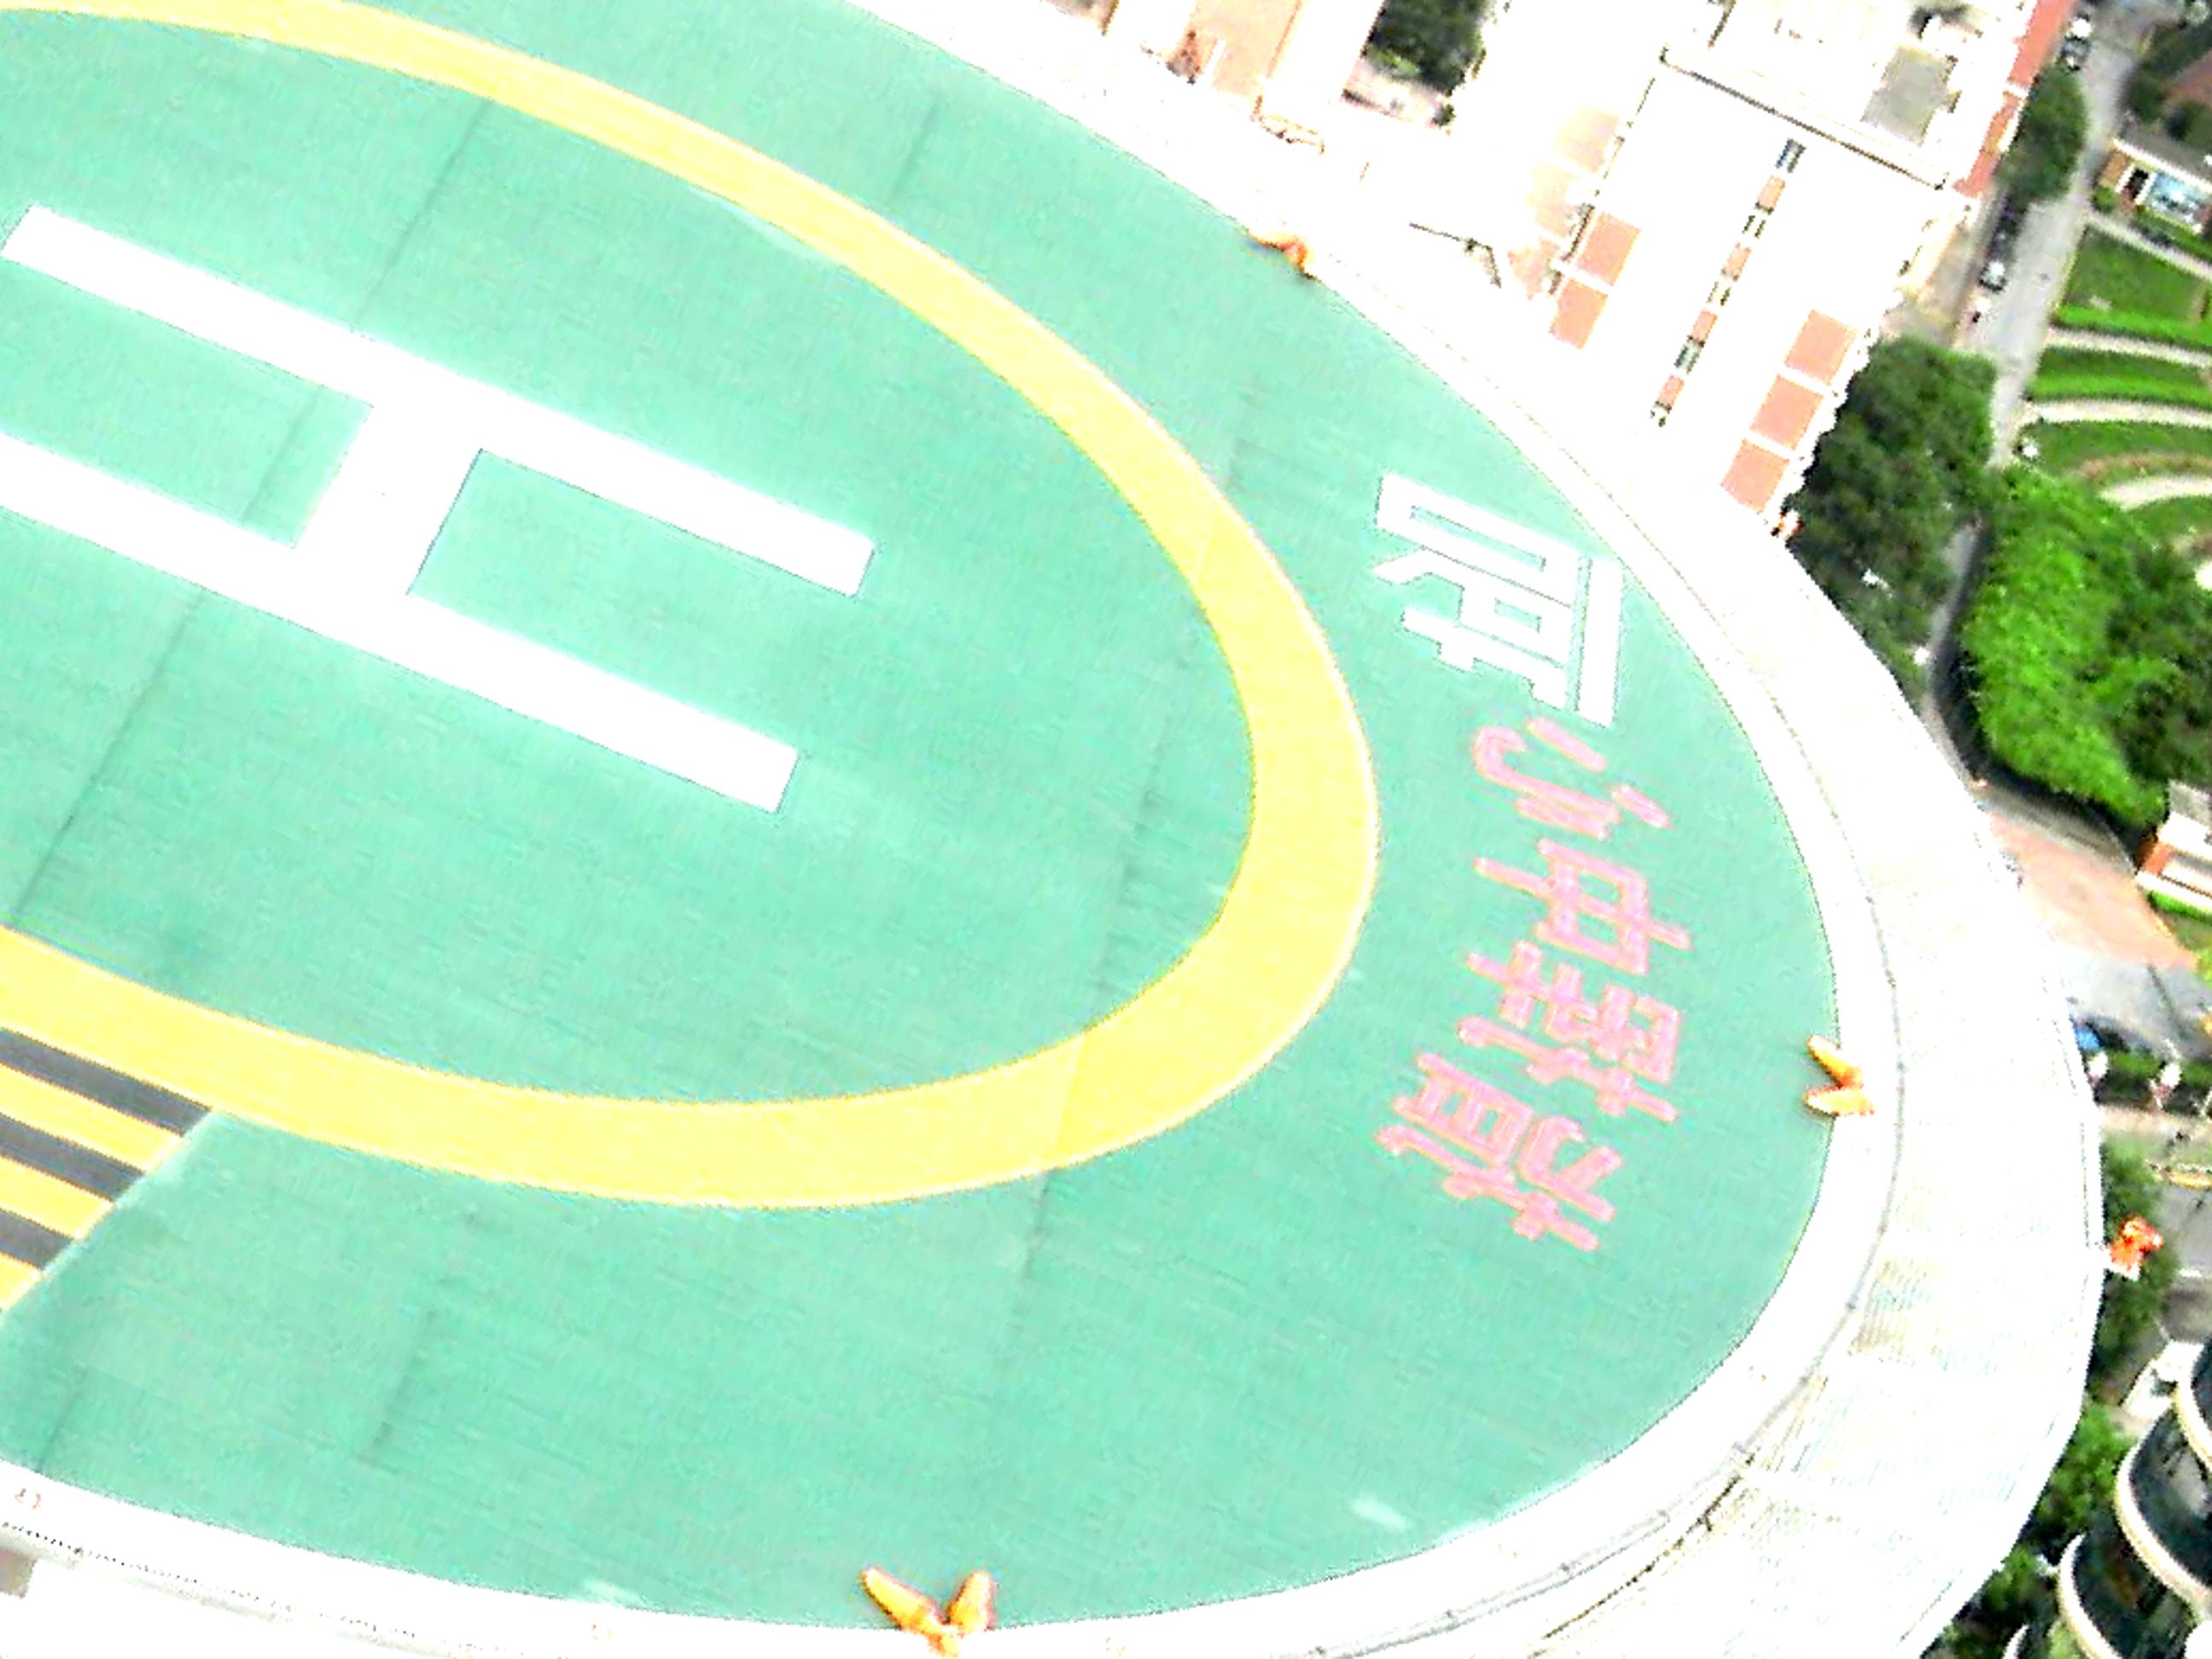Apron: (0, 9, 1392, 1232)
